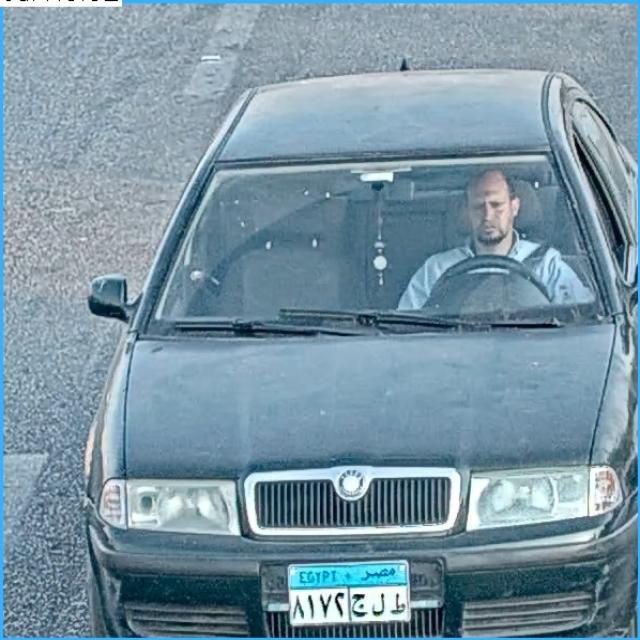windshield: (154, 168, 606, 330)
